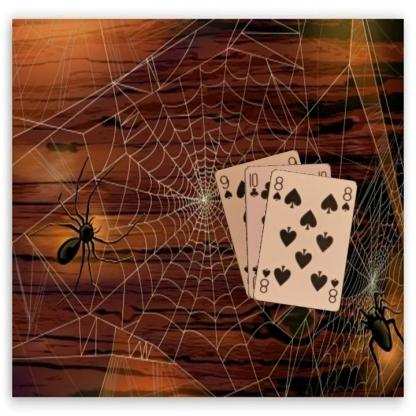10c: (246, 170, 260, 198)
8s: (326, 275, 340, 304), (270, 174, 284, 202)
9s: (216, 172, 233, 201)
